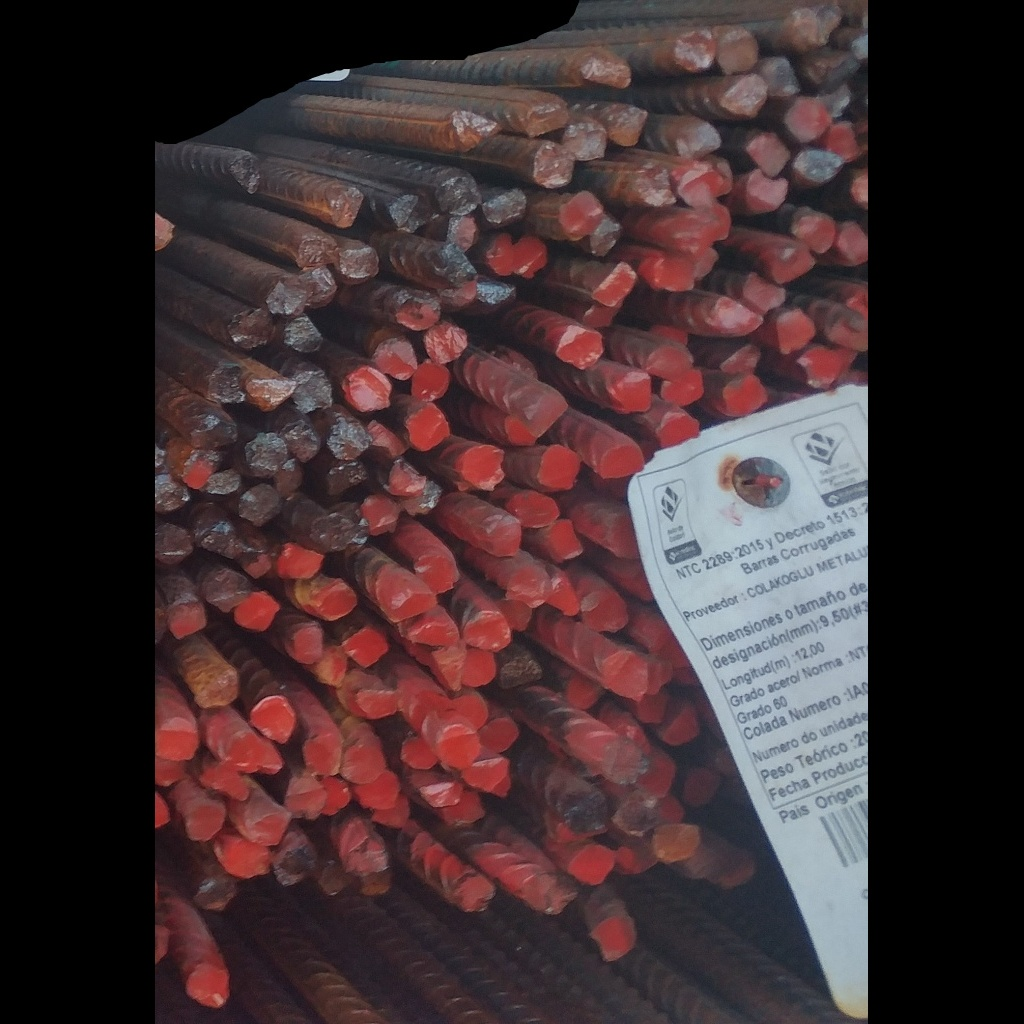dipstick: (581, 590, 629, 633), (603, 652, 646, 699), (568, 845, 615, 887), (562, 190, 601, 240), (747, 132, 791, 176), (593, 916, 636, 961), (453, 111, 498, 153), (407, 405, 449, 450), (275, 837, 313, 886), (348, 368, 389, 413), (464, 611, 510, 651), (812, 49, 855, 91), (786, 98, 829, 140), (612, 791, 655, 833), (532, 145, 573, 189), (460, 445, 505, 485), (530, 876, 577, 914), (538, 446, 580, 488), (603, 740, 645, 782), (186, 964, 228, 1006), (482, 189, 526, 229), (723, 374, 767, 414), (556, 330, 602, 368), (387, 582, 435, 618), (375, 337, 416, 379), (253, 697, 295, 738), (674, 29, 713, 73), (507, 567, 552, 605), (229, 310, 275, 347), (438, 725, 479, 766), (562, 792, 603, 833), (784, 10, 824, 52), (596, 263, 636, 305), (800, 345, 840, 387), (776, 310, 813, 355), (582, 53, 629, 88), (716, 32, 756, 73), (439, 174, 479, 215), (679, 166, 720, 206), (156, 718, 196, 759), (723, 76, 765, 115), (247, 433, 286, 475), (279, 544, 323, 581), (311, 515, 357, 550), (655, 826, 701, 861), (329, 420, 370, 459), (566, 123, 608, 161), (425, 324, 467, 362), (397, 293, 440, 330), (745, 172, 788, 209), (434, 247, 479, 282), (224, 841, 269, 876), (598, 443, 644, 477), (239, 484, 279, 523), (295, 370, 331, 413), (156, 522, 192, 565), (236, 594, 279, 630), (203, 768, 248, 802), (526, 99, 565, 138), (287, 778, 325, 818), (345, 837, 386, 874), (326, 185, 362, 227), (207, 362, 243, 404), (198, 522, 240, 558), (344, 630, 386, 666), (297, 232, 340, 267), (189, 415, 237, 446), (608, 107, 647, 145), (678, 218, 717, 256), (638, 168, 676, 207), (197, 667, 235, 706), (457, 875, 494, 915), (269, 276, 305, 317), (662, 371, 703, 407), (771, 245, 812, 281), (499, 654, 542, 688), (392, 193, 430, 231), (530, 394, 567, 433), (679, 124, 719, 160), (799, 215, 835, 255), (305, 736, 341, 776), (616, 371, 651, 412), (205, 570, 247, 604), (549, 571, 579, 618), (412, 364, 450, 401), (617, 835, 656, 871), (249, 810, 289, 845), (355, 773, 396, 807), (433, 644, 462, 692), (513, 235, 546, 277), (340, 748, 382, 781), (685, 768, 718, 810), (718, 301, 761, 333), (744, 276, 787, 308), (515, 494, 558, 526), (665, 704, 697, 747), (361, 496, 397, 534), (320, 582, 356, 620), (589, 221, 622, 262), (462, 760, 507, 790), (608, 513, 638, 558), (656, 414, 699, 445), (795, 151, 838, 182), (764, 59, 799, 96), (156, 475, 190, 513), (650, 347, 693, 377), (249, 380, 295, 408), (286, 420, 318, 460), (836, 225, 868, 265), (481, 717, 517, 752), (656, 259, 694, 292), (444, 793, 482, 826), (419, 554, 452, 592), (187, 806, 223, 840), (197, 881, 236, 912), (286, 317, 320, 352), (567, 674, 601, 709), (400, 735, 436, 768), (328, 464, 366, 495), (305, 268, 335, 307), (487, 232, 513, 277), (492, 517, 521, 557), (833, 315, 868, 348), (220, 731, 255, 764), (169, 605, 206, 636), (371, 421, 403, 456), (388, 463, 423, 495), (463, 651, 495, 686), (645, 756, 673, 796), (292, 627, 323, 663), (411, 619, 457, 643), (231, 155, 260, 193), (721, 345, 759, 374), (182, 451, 212, 487), (511, 381, 540, 418), (357, 690, 398, 716), (406, 483, 440, 514), (552, 521, 581, 557), (242, 537, 268, 577), (341, 248, 378, 276), (830, 121, 858, 158), (376, 796, 408, 827), (419, 783, 460, 807), (326, 778, 350, 818), (583, 301, 621, 326), (319, 650, 346, 685), (501, 600, 531, 631), (442, 283, 475, 311), (455, 696, 486, 725), (824, 87, 853, 117), (504, 420, 535, 447), (319, 864, 346, 895), (638, 692, 665, 722), (258, 743, 284, 774), (447, 218, 473, 248), (156, 759, 184, 786), (657, 796, 684, 824), (278, 460, 300, 494), (208, 471, 239, 493), (851, 170, 868, 208), (695, 249, 717, 278), (357, 877, 392, 895), (717, 204, 731, 238)
